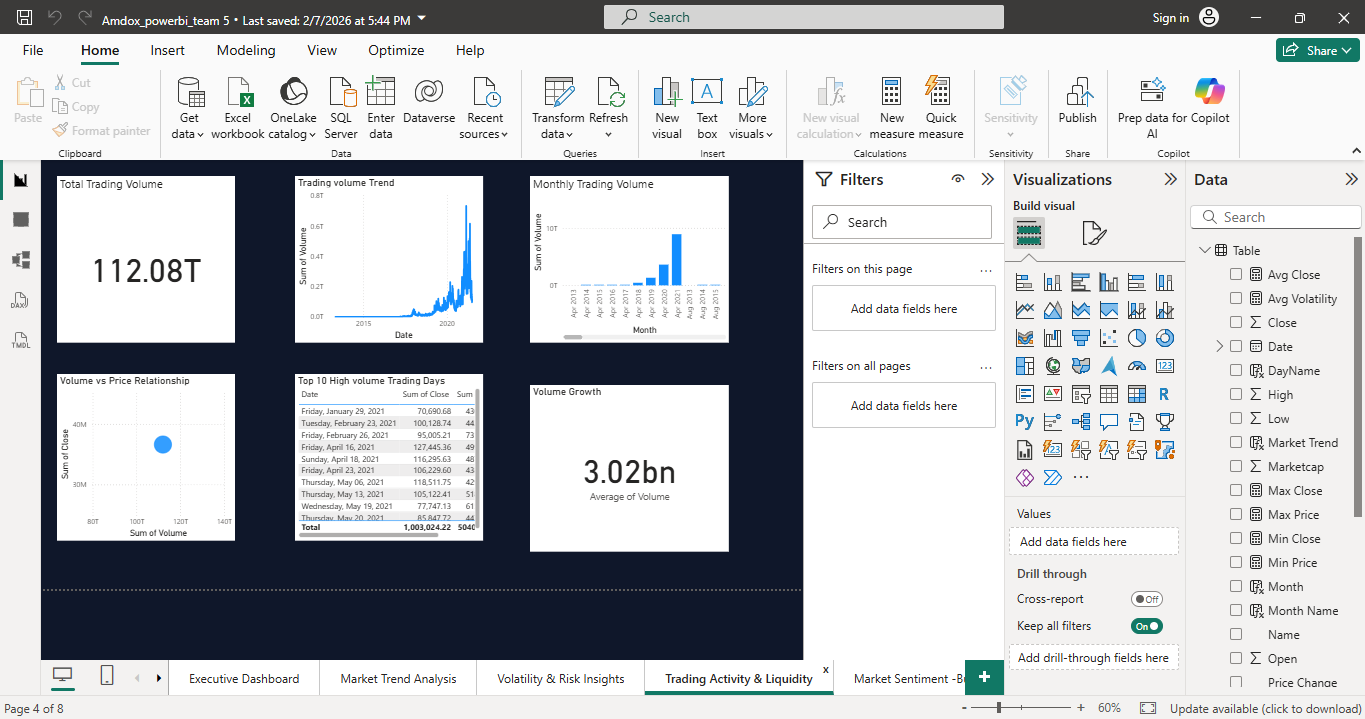

This screenshot's page, from the dashboard's own definition file:
{"tool":"powerbi","page":{"name":"Trading Activity & Liquidity","canvas":[1280,720],"ordinal":3},"visuals":[{"type":"card","title":"Total Trading Volume","fields":{"Values":["Table.Total Volume"]},"box":[26.5,26.5,298.6,279.7],"z":0},{"type":"lineChart","title":"Trading volume Trend","fields":{"Y":["Sum(Table.Volume)"],"Category":["Table.Date"]},"box":[427.1,26.5,315.6,279.7],"z":1},{"type":"clusteredColumnChart","title":"Monthly Trading Volume","fields":{"Category":["Table.Month"],"Y":["Sum(Table.Volume)"]},"box":[822.1,26.5,334.5,279.7],"z":2},{"type":"scatterChart","title":"Volume vs Price Relationship","fields":{"X":["Sum(Table.Volume)"],"Y":["Sum(Table.Close)"],"Size":["Sum(Table.Volume)"]},"box":[26.5,359.1,298.6,279.7],"z":3},{"type":"tableEx","title":"Top 10 High volume Trading Days","fields":{"Values":["Table.Date","Sum(Table.Close)","Sum(Table.Volume)"]},"box":[427.1,359.1,315.6,279.7],"z":4},{"type":"card","title":"Volume Growth","fields":{"Values":["Avg(Table.Volume)"]},"box":[822.1,378,334.5,279.7],"z":5}]}

Visuals, with their boxes on the page's 1280x720 design canvas (x1, y1, x2, y2). These are canvas units, not pixel positions in the 1365x719 screenshot, which may show the page scaled, cropped or inside an application window:
"Total Trading Volume" card: crop(26, 26, 325, 306)
"Trading volume Trend" lineChart: crop(427, 26, 743, 306)
"Monthly Trading Volume" clusteredColumnChart: crop(822, 26, 1157, 306)
"Volume vs Price Relationship" scatterChart: crop(26, 359, 325, 639)
"Top 10 High volume Trading Days" tableEx: crop(427, 359, 743, 639)
"Volume Growth" card: crop(822, 378, 1157, 658)
